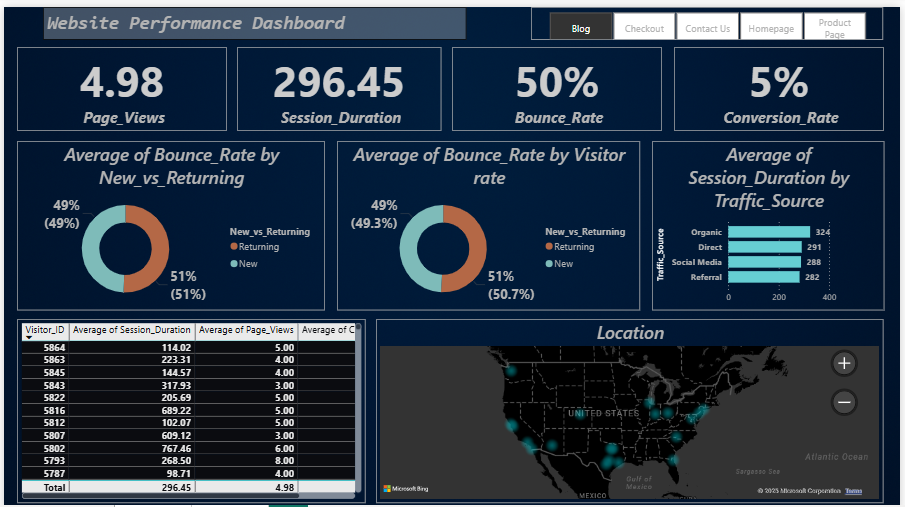

This screenshot's page, from the dashboard's own definition file:
{"tool":"powerbi","page":{"name":"Page 2","canvas":[1280,720],"ordinal":0},"visuals":[{"type":"textbox","box":[55,0,605,46.7],"z":0},{"type":"card","title":"Total Page Views","fields":{"Values":["Avg(website_performance_analytics.Page_Views)"]},"box":[18.3,56.7,300,120],"z":1},{"type":"card","title":"Sum of session Duration","fields":{"Values":["Avg(website_performance_analytics.Session_Duration)"]},"box":[333.3,56.7,291.7,120],"z":2},{"type":"card","title":"Bounce Rate","fields":{"Values":["Avg(website_performance_analytics.Bounce_Rate)"]},"box":[640,56.7,300,120],"z":3},{"type":"card","title":"Coversion Rate","fields":{"Values":["Avg(website_performance_analytics.Conversion_Rate)"]},"box":[956.7,56.7,300,120],"z":4},{"type":"donutChart","title":"Average of Bounce_Rate by Visitor rate","fields":{"Category":["website_performance_analytics.New_vs_Returning"],"Y":["Avg(website_performance_analytics.Bounce_Rate)"]},"box":[475,191.7,433.3,241.7],"z":5},{"type":"donutChart","fields":{"Category":["website_performance_analytics.New_vs_Returning"],"Y":["Avg(website_performance_analytics.Bounce_Rate)"]},"box":[18.3,191.7,440,241.7],"z":6},{"type":"clusteredBarChart","fields":{"Category":["website_performance_analytics.Traffic_Source"],"Y":["Avg(website_performance_analytics.Session_Duration)"]},"box":[925,191.7,331.7,241.7],"z":7},{"type":"map","fields":{"Category":["website_performance_analytics.Location"]},"box":[531.7,445,725,263.3],"z":8},{"type":"tableEx","fields":{"Values":["website_performance_analytics.Visitor_ID","Avg(website_performance_analytics.Session_Duration)","Avg(website_performance_analytics.Page_Views)","Avg(website_performance_analytics.Conversion_Rate)"]},"box":[18.3,445,498.3,263.3],"z":9},{"type":"slicer","fields":{"Values":["website_performance_analytics.Exit_Pages"]},"box":[753.3,0,503.3,46.7],"z":10}]}

Visuals, with their boxes in screenshot pixels (x1, y1, x2, y2), scaled from the page's 1280x720 canvas onto the 905x507 screenshot:
textbox: bbox=[39, 0, 467, 33]
"Total Page Views" card: bbox=[13, 40, 225, 124]
"Sum of session Duration" card: bbox=[236, 40, 442, 124]
"Bounce Rate" card: bbox=[452, 40, 665, 124]
"Coversion Rate" card: bbox=[676, 40, 889, 124]
"Average of Bounce_Rate by Visitor rate" donutChart: bbox=[336, 135, 642, 305]
donutChart - website_performance_analytics.New_vs_Returning x Avg(website_performance_analytics.Bounce_Rate): bbox=[13, 135, 324, 305]
clusteredBarChart - website_performance_analytics.Traffic_Source x Avg(website_performance_analytics.Session_Duration): bbox=[654, 135, 889, 305]
map - website_performance_analytics.Location: bbox=[376, 313, 889, 499]
tableEx - website_performance_analytics.Visitor_ID x Avg(website_performance_analytics.Session_Duration): bbox=[13, 313, 365, 499]
slicer - website_performance_analytics.Exit_Pages: bbox=[533, 0, 888, 33]
